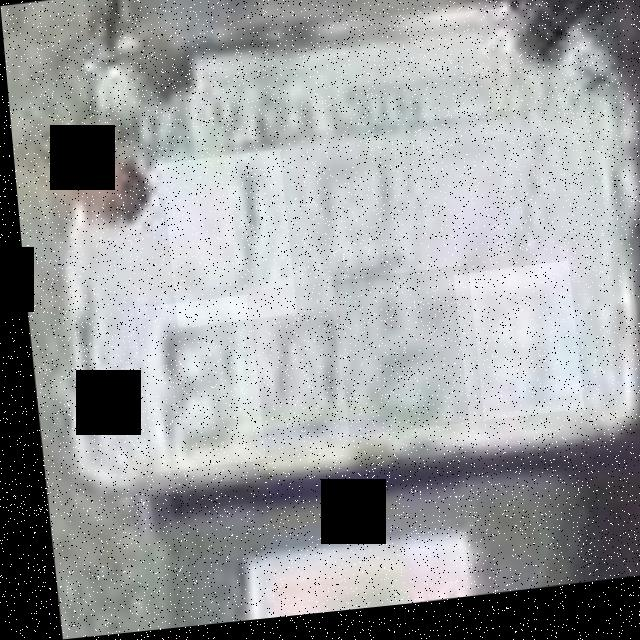0: (230, 285, 368, 461), (447, 272, 576, 431)
5: (326, 274, 475, 443)
B: (288, 126, 423, 306), (130, 298, 257, 475)
J: (157, 154, 292, 331)
